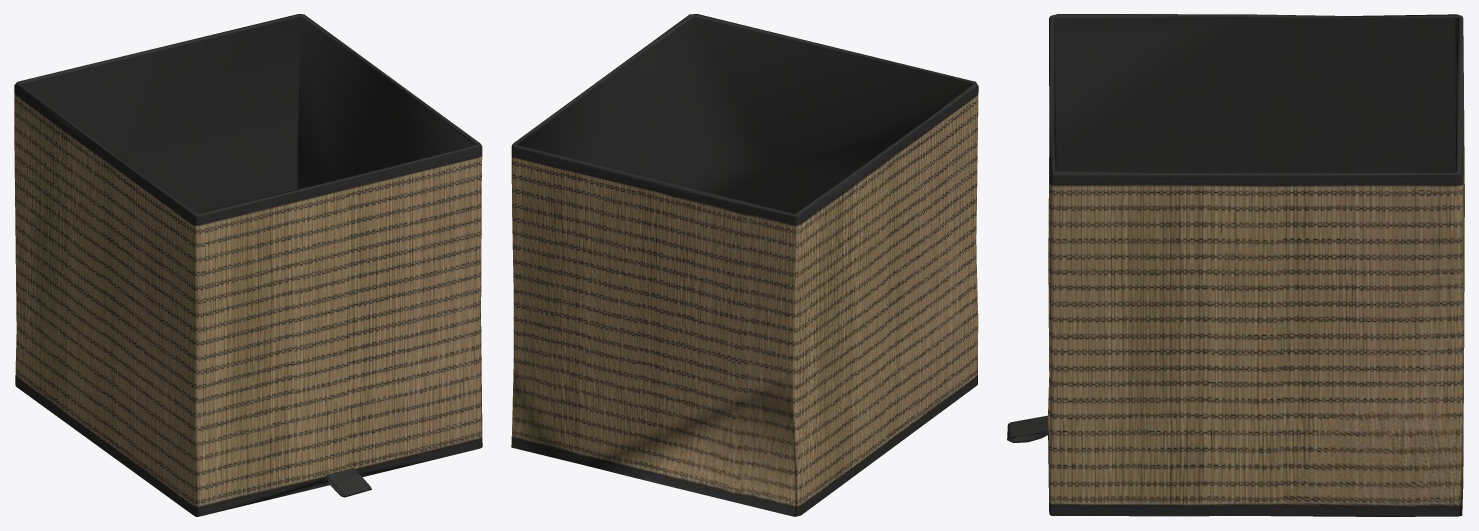
Rendered from gnabbas_kosz_60400298.glb.
3 views of the same model, side by side, from view 1: azimuth 30°, elevation 25°; view 2: azimuth 150°, elevation 25°; view 3: azimuth 270°, elevation 25° (orthographic). The views are drawn at different scales.
Parts seen in each view (by area): view 1: gnabbas_kosz_60400298; view 2: gnabbas_kosz_60400298; view 3: gnabbas_kosz_60400298.
Part boxes in pixels (x1,y1,x2,y2): gnabbas_kosz_60400298: (14,14,482,516); gnabbas_kosz_60400298: (511,14,978,516); gnabbas_kosz_60400298: (1007,14,1464,516).
Bounding box in the file's own units: 0.3196 × 0.3201 × 0.3862.
1 material, 1 textured.
